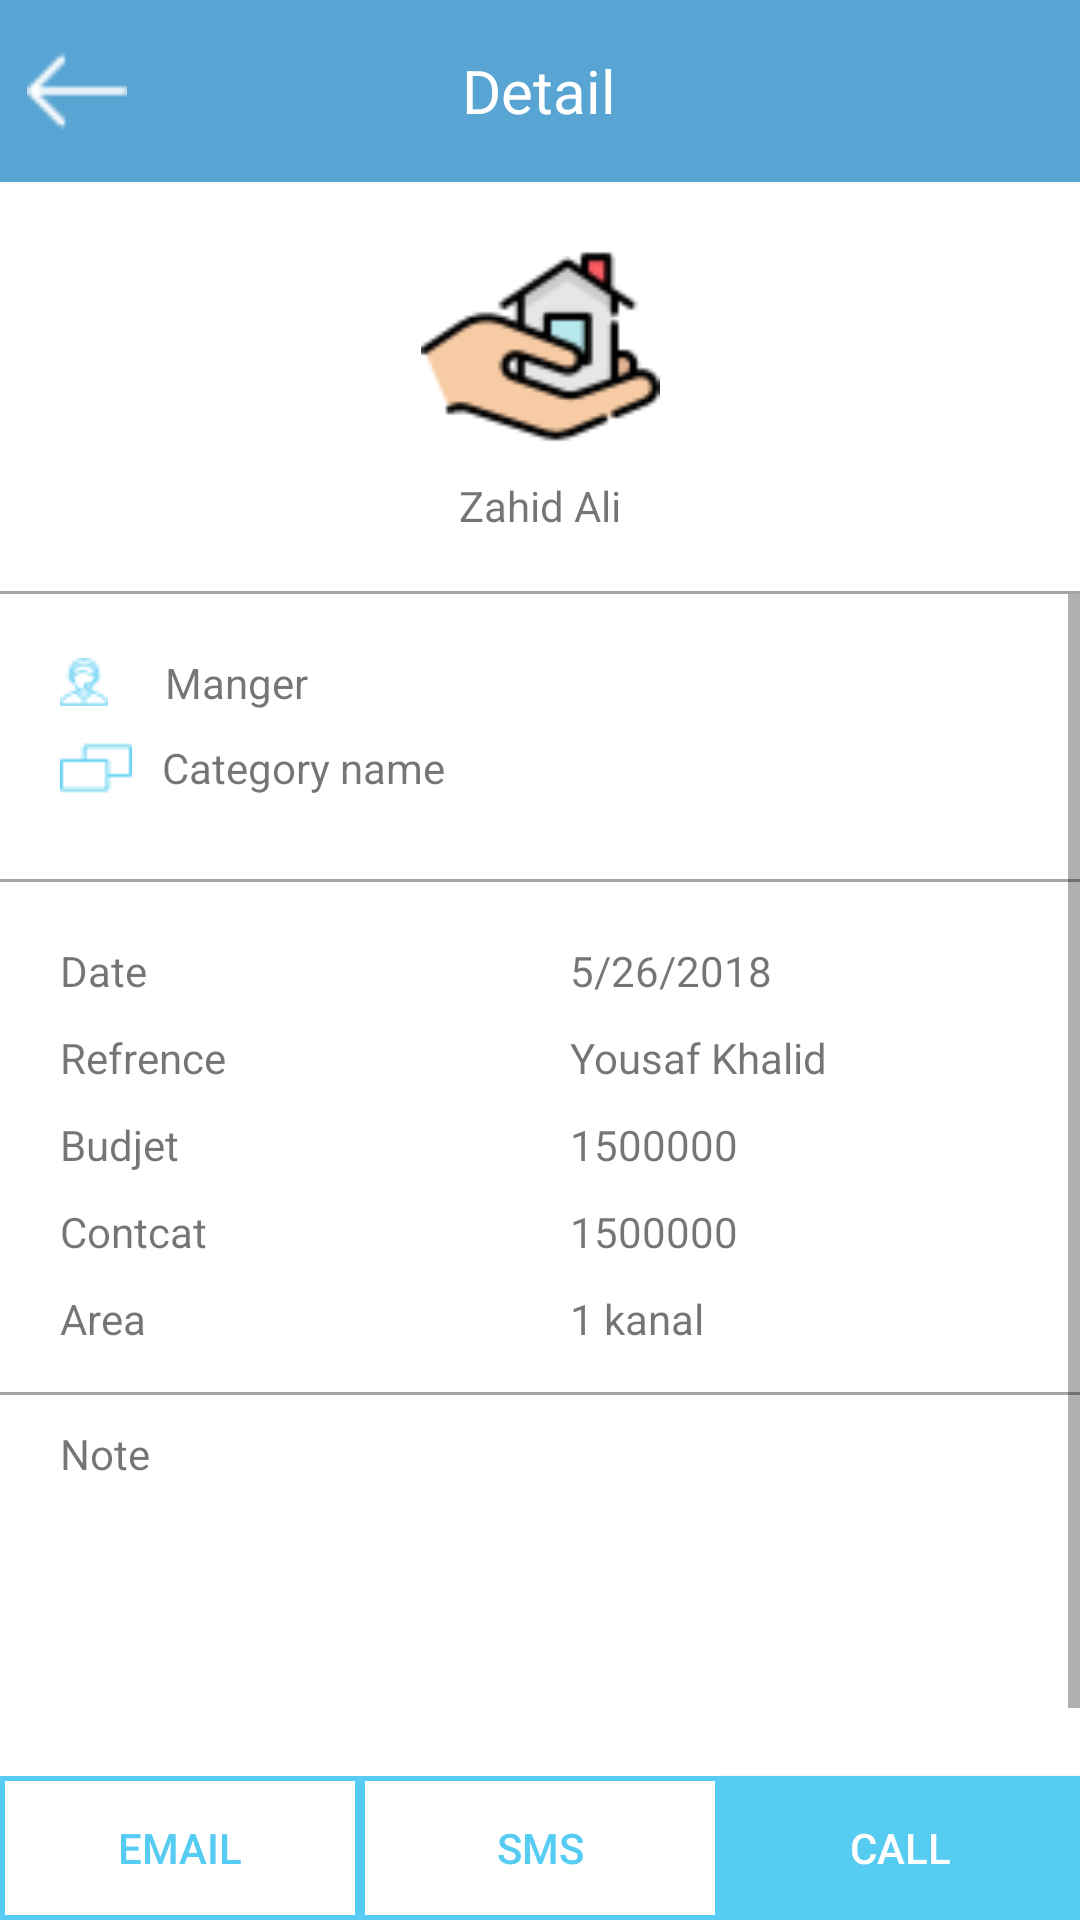

Point at icon controls on the screen. Image size 1080px x 1920px, points as (x,y).
back arrow: (77,91)
